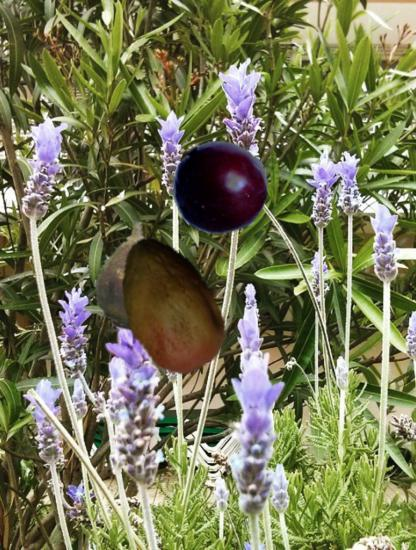Beetroot: (77, 216, 194, 333)
Papaya: (98, 231, 245, 378)
Plum: (172, 140, 269, 237)
